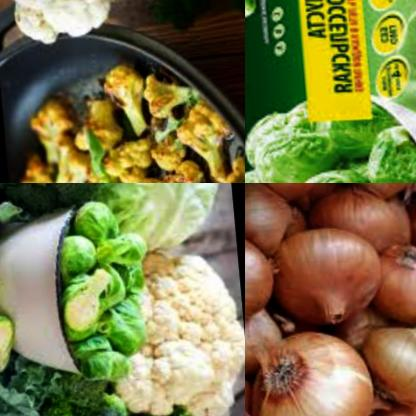broccoli: (1, 362, 122, 416)
brus capusta: (50, 207, 151, 382), (245, 106, 416, 183), (245, 0, 292, 78), (0, 308, 14, 378)
cabbage: (83, 183, 231, 248)
cayliflower: (6, 68, 245, 183), (92, 239, 245, 416), (13, 0, 137, 59)
onion: (245, 183, 416, 416)
